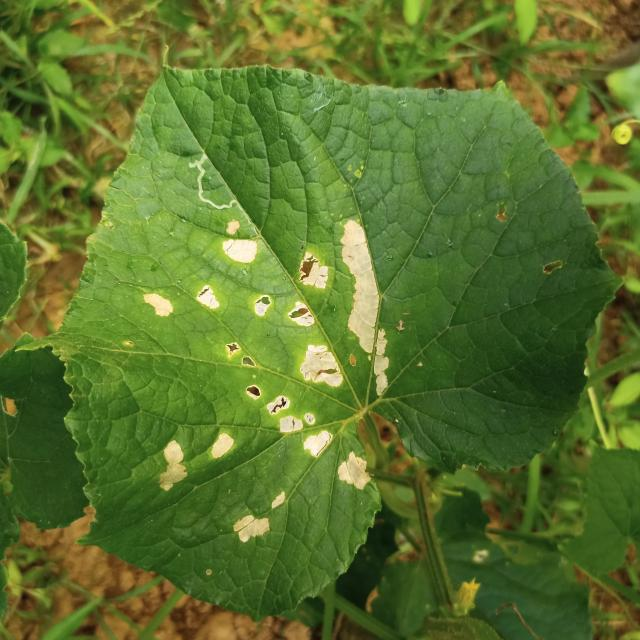disease_cucumber: (142, 218, 392, 498), (157, 430, 235, 494), (233, 492, 289, 547)
